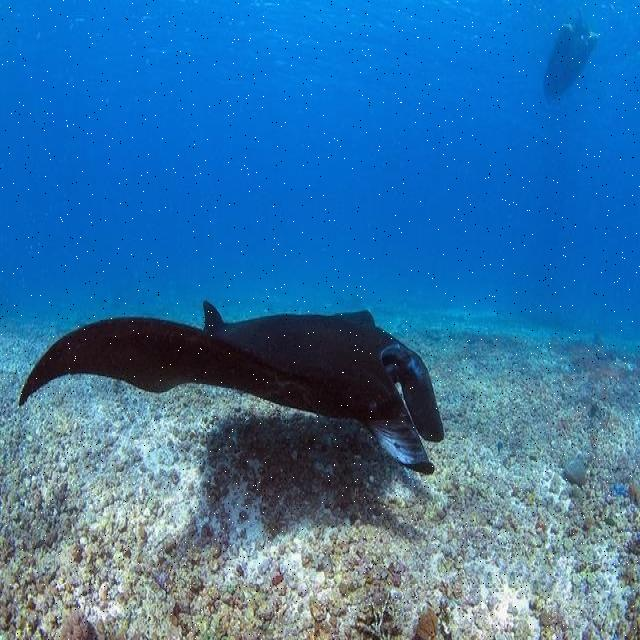fish: (18, 302, 444, 473)
robots: (544, 26, 598, 103)
